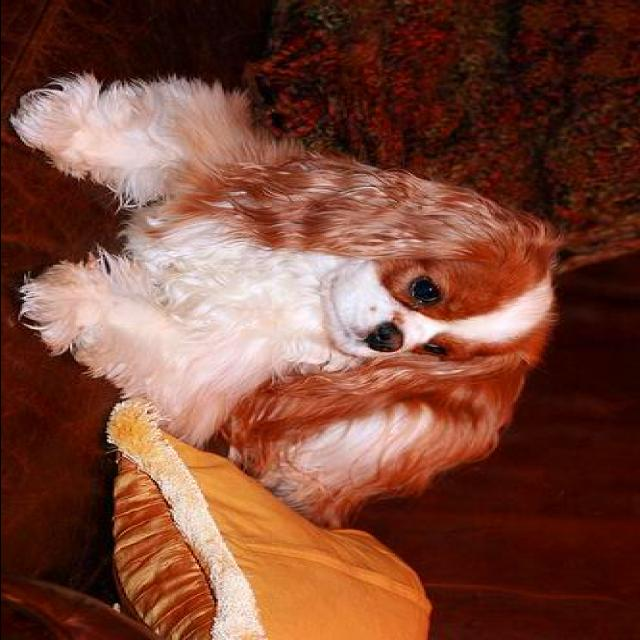blenheim_spaniel: (11, 70, 562, 534)
